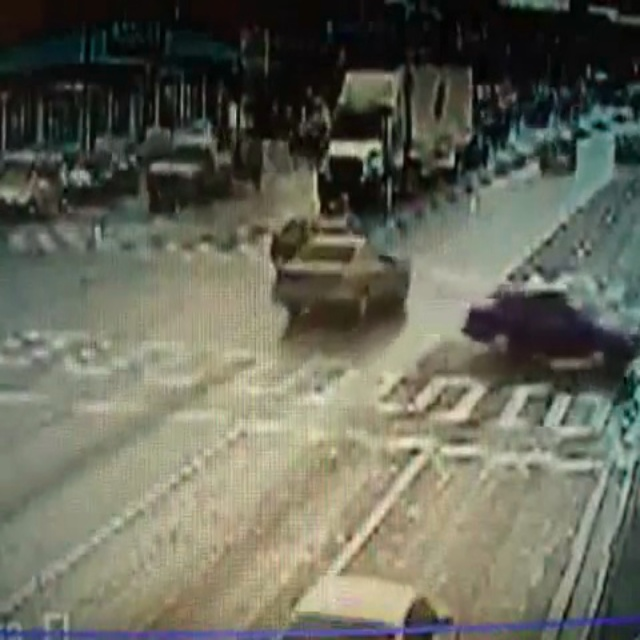acc: (262, 212, 417, 324)
